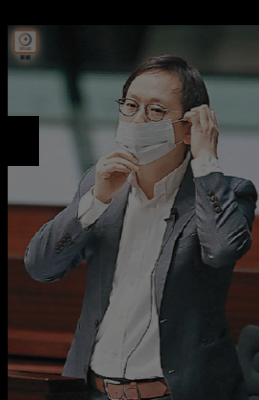with_mask: (117, 95, 183, 165)
